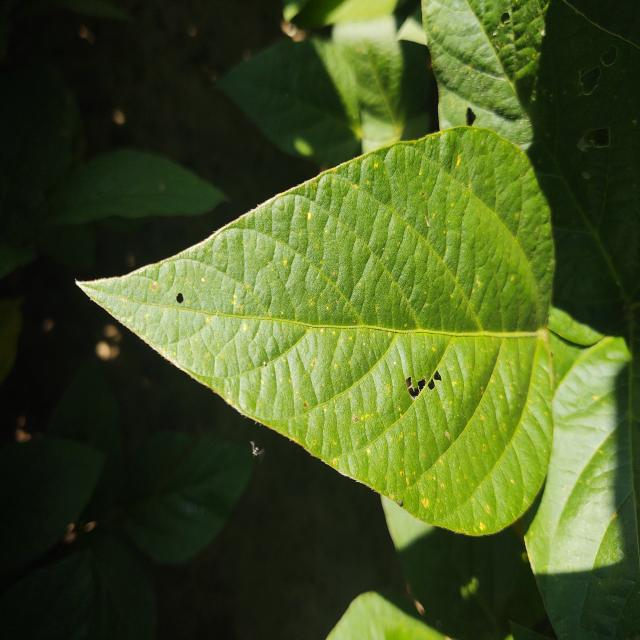Soybean: (81, 125, 568, 543)
downey_mildew: (409, 146, 548, 330), (369, 153, 454, 323), (579, 122, 640, 297), (324, 332, 421, 442), (549, 447, 632, 574), (135, 259, 264, 330), (551, 336, 633, 447), (577, 497, 640, 639), (180, 313, 508, 339), (309, 32, 376, 152), (204, 317, 335, 377), (388, 348, 476, 437), (79, 275, 187, 345), (227, 162, 341, 222), (511, 335, 555, 489), (619, 312, 640, 625), (548, 0, 640, 63), (533, 553, 599, 640), (359, 25, 406, 144), (134, 302, 347, 328), (378, 141, 439, 227), (424, 494, 535, 538), (443, 90, 533, 144), (300, 445, 383, 496), (523, 516, 554, 636), (350, 251, 401, 322), (509, 2, 552, 81), (335, 14, 401, 52), (456, 60, 521, 91)
